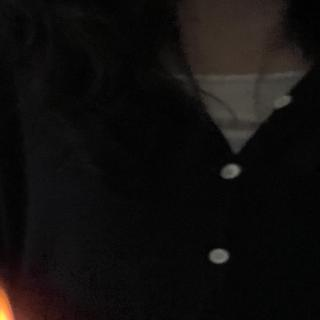fire: (0, 282, 15, 320)
